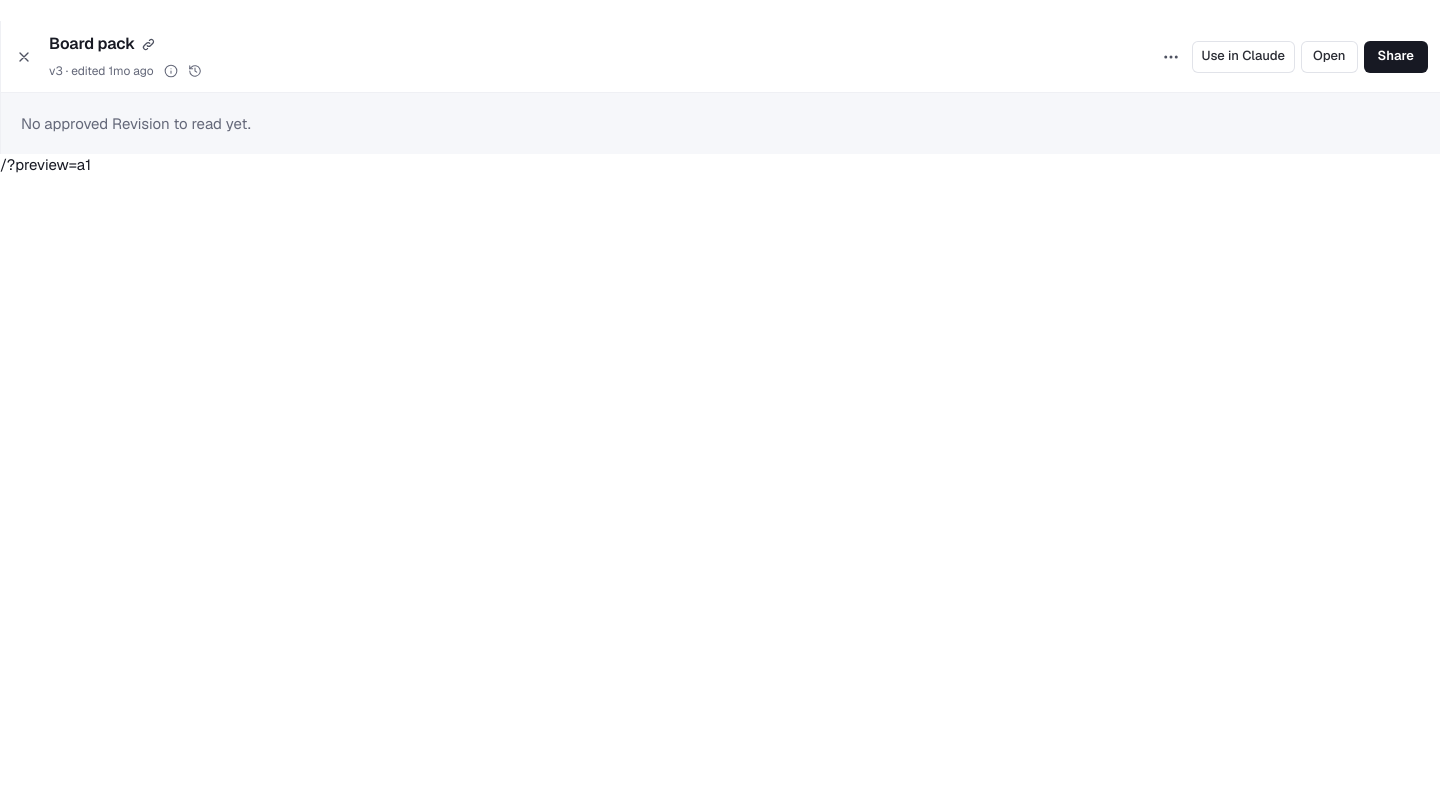
Test case: PreviewPane header › names this Workspace's Connections in Details once they are known
Click the button named "Details": [171, 71] box [160,60,182,82]
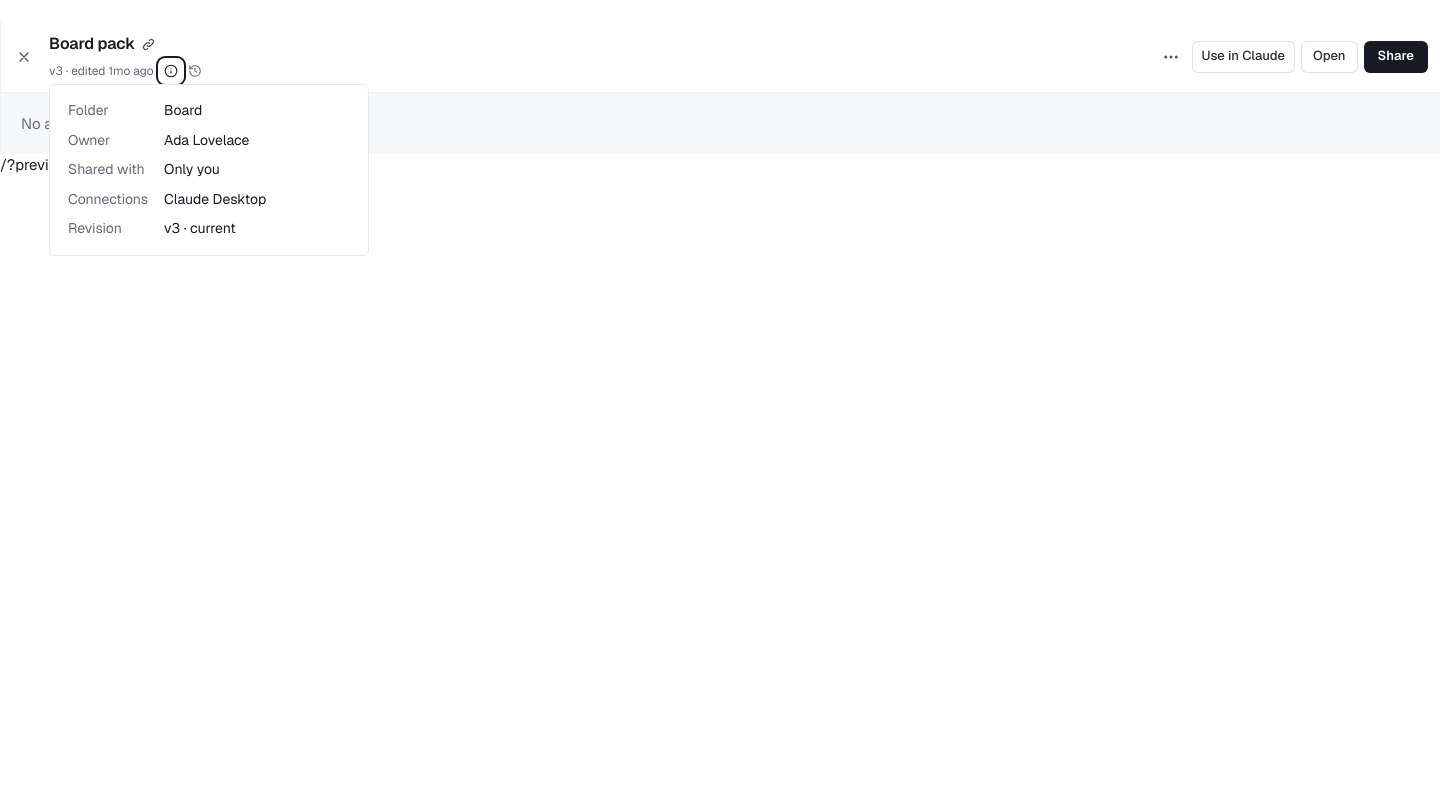
Result: the text "Claude Desktop" is shown at [164,190,266,208]
